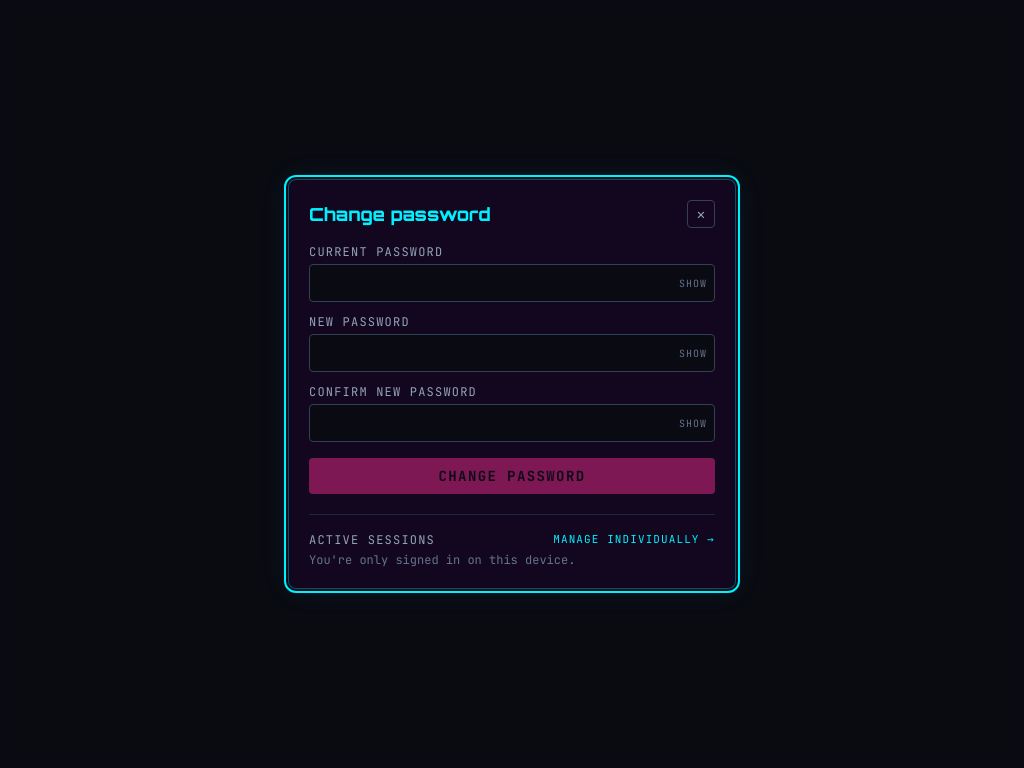
it: ChangePasswordModal › shows the incorrect-current-password error from the server and keeps the form open
Step 1. Type "wrongpass" into the password field labelled "Current password" → (512, 283), box [309, 264, 715, 302]
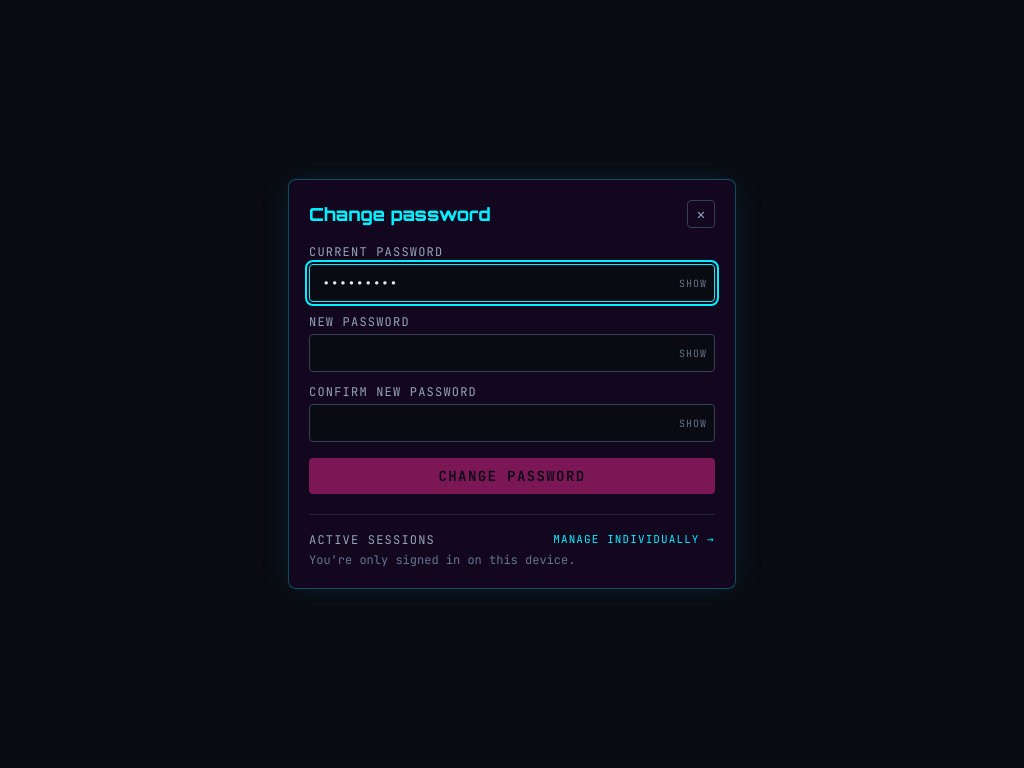
Step 2. Type "newpass123" into the password field labelled "New password" → (512, 353), box [309, 334, 715, 372]
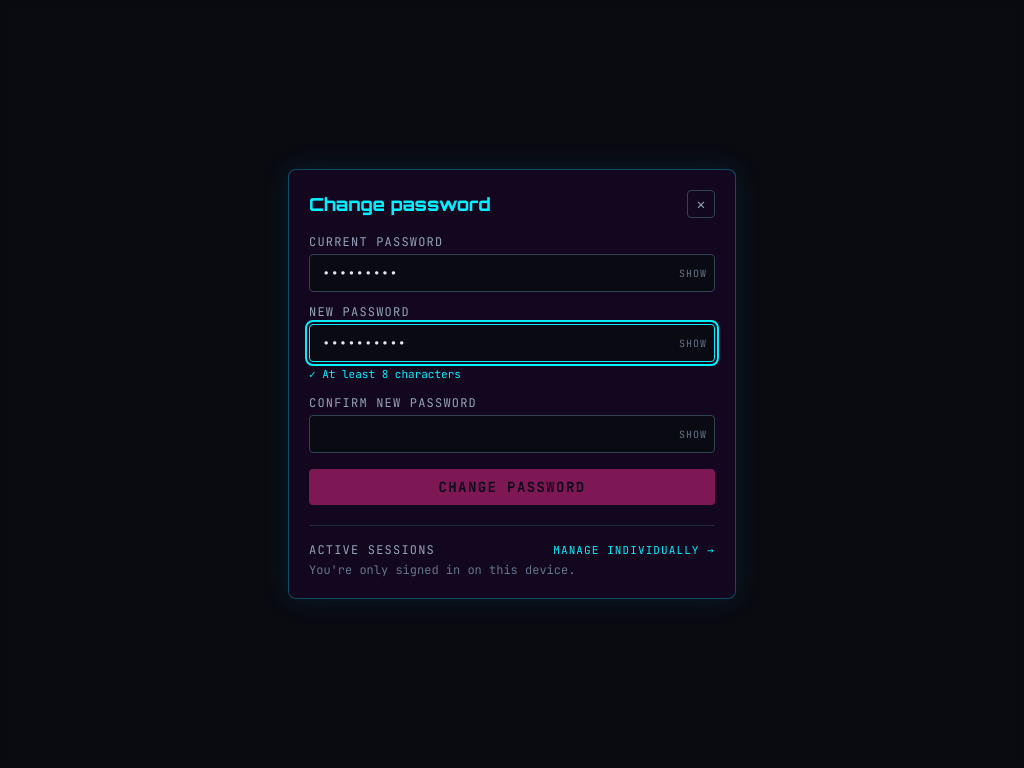
Step 3. Type "newpass123" into the password field labelled "Confirm new password" → (512, 434), box [309, 414, 715, 452]
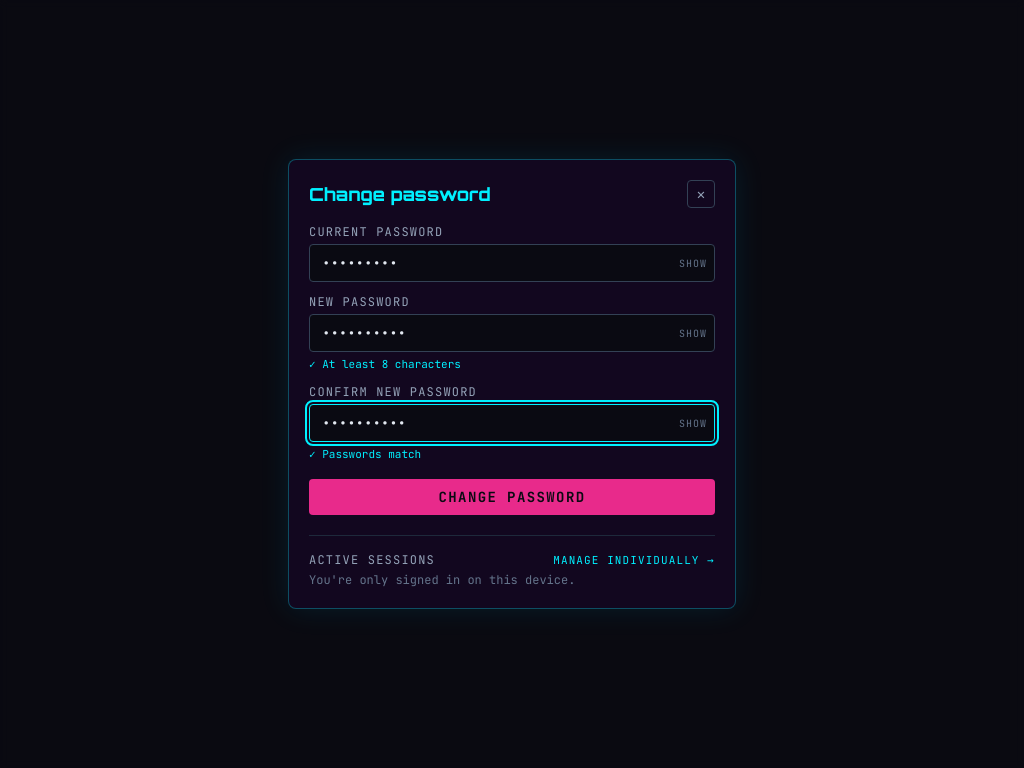
Step 4. Click the button "Change password" → (512, 497), box [309, 479, 715, 515]
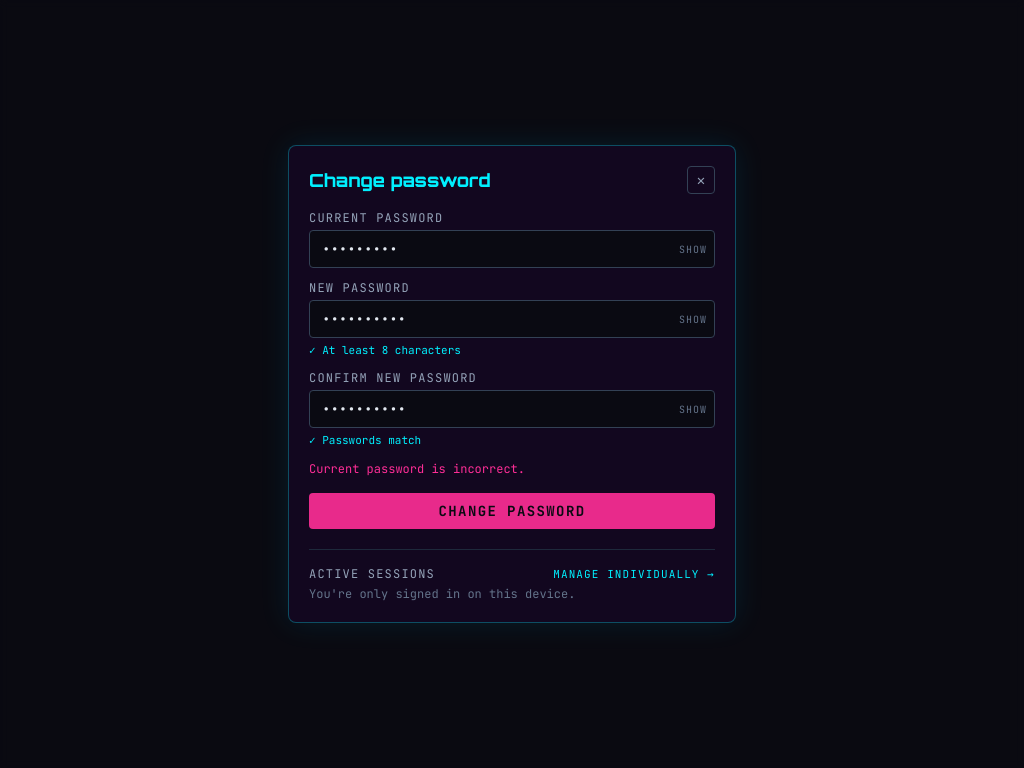
Expected: the button "Change password" is shown, [309, 493, 715, 529]
Now the text "Current password is incorrect." is shown, box [309, 461, 525, 477]
